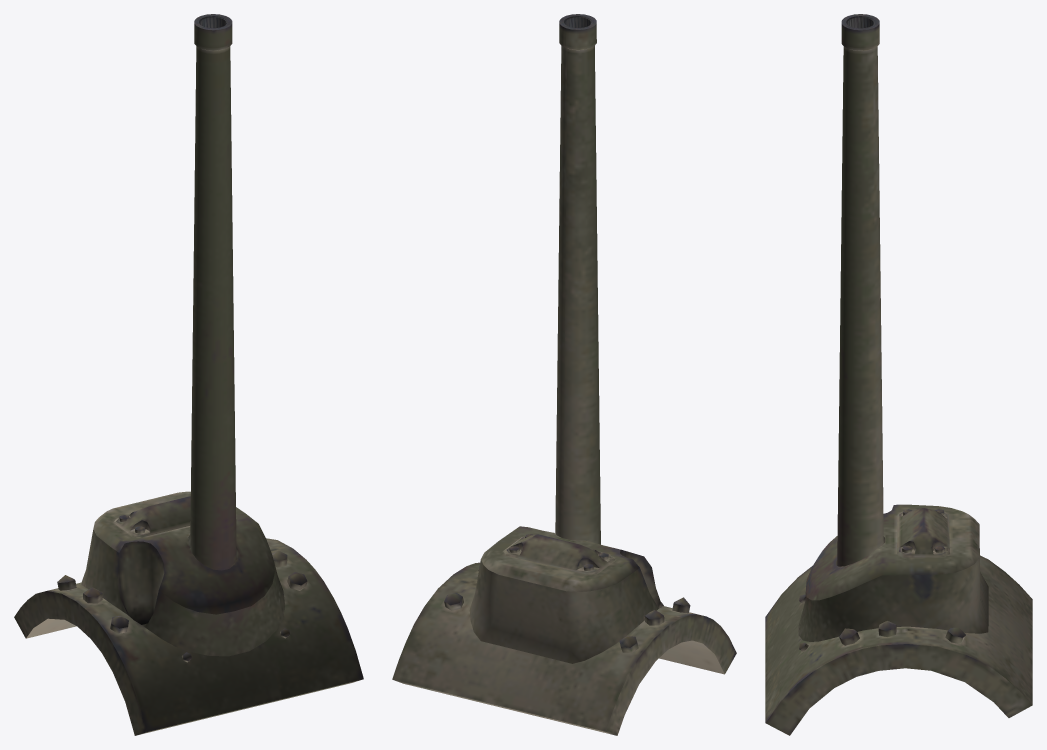
The model's file is Gun_04.glb.
3 renders of one model, left to right at view 1: azimuth 30°, elevation 25°; view 2: azimuth 150°, elevation 25°; view 3: azimuth 270°, elevation 25°, orthographic.
Parts seen in each view (by area): view 1: set_0_group_0; view 2: set_0_group_0; view 3: set_0_group_0.
Boxes of the visible parts, x1,y1,x2,y2 form: set_0_group_0: (14, 14, 363, 735); set_0_group_0: (392, 14, 736, 735); set_0_group_0: (765, 14, 1032, 735).
Bounding box in the file's own units: 0.71 × 2.07 × 0.7537.
1 material, 1 textured.
